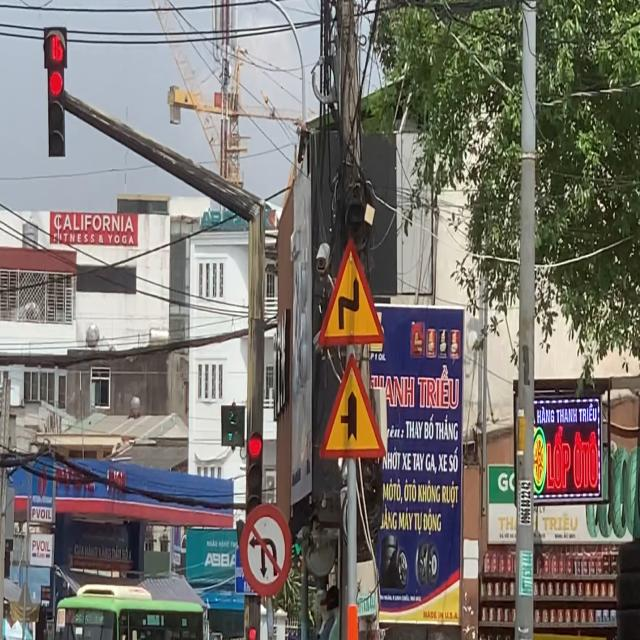Cam con lai: (238, 502, 292, 598)
Giao voi duong khong uu tien: (318, 351, 387, 459)
Nguy hiem: (316, 235, 386, 351)
